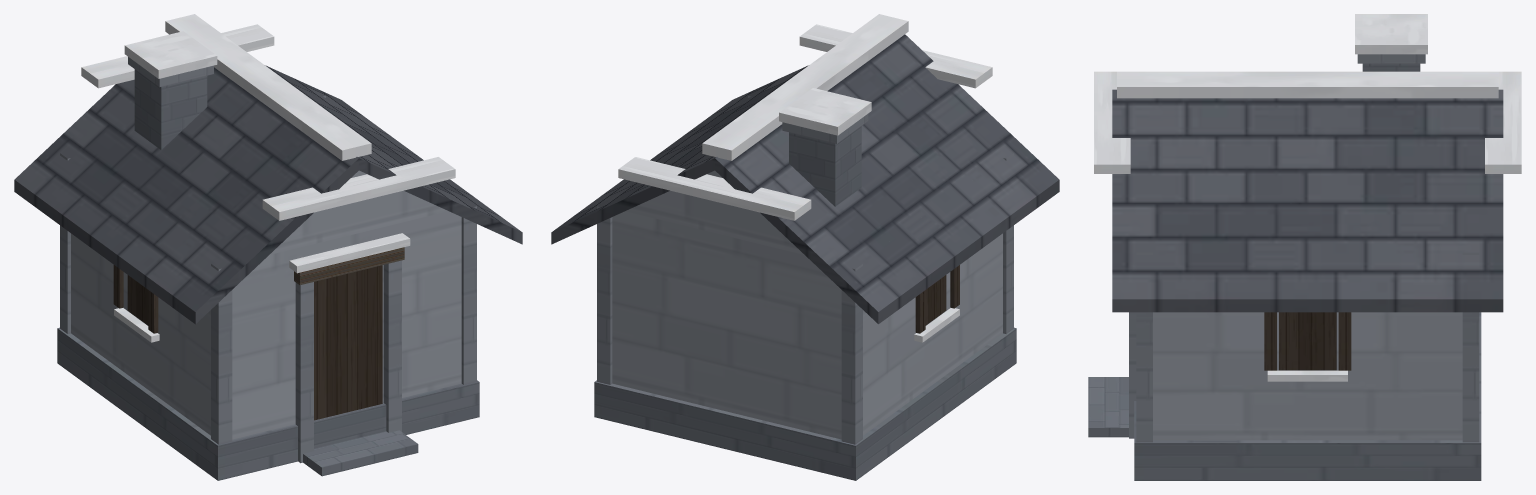
File: ae_snow_stone_small_hut_lod0.glb
The picture shows the model from 3 angles, left to right: view 1: azimuth 30°, elevation 25°; view 2: azimuth 150°, elevation 25°; view 3: azimuth 270°, elevation 25°; orthographic projection. The views are drawn at different scales.
Visible parts, largest first — view 1: ae_snow_stone_small_hut_lod0; view 2: ae_snow_stone_small_hut_lod0; view 3: ae_snow_stone_small_hut_lod0.
Boxes of the visible parts, x1,y1,x2,y2 form: ae_snow_stone_small_hut_lod0: [14, 14, 522, 480]; ae_snow_stone_small_hut_lod0: [551, 14, 1059, 480]; ae_snow_stone_small_hut_lod0: [1088, 14, 1521, 480].
Bounding box in the file's own units: 3.9 × 3.71 × 4.14.
Materials: 1 (1 with a texture image).
